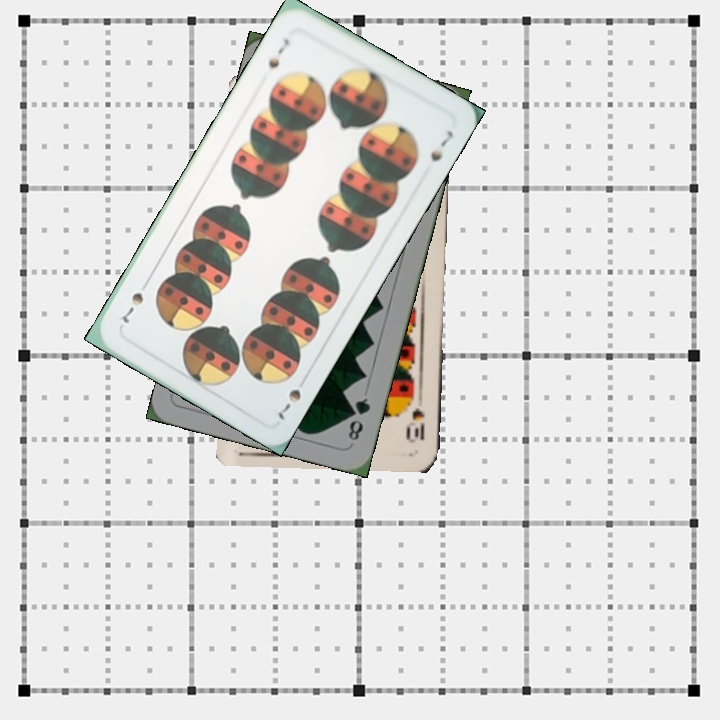G8: (344, 393, 373, 444)
S10: (407, 389, 427, 445)
S7: (272, 371, 310, 423), (263, 34, 292, 71)
